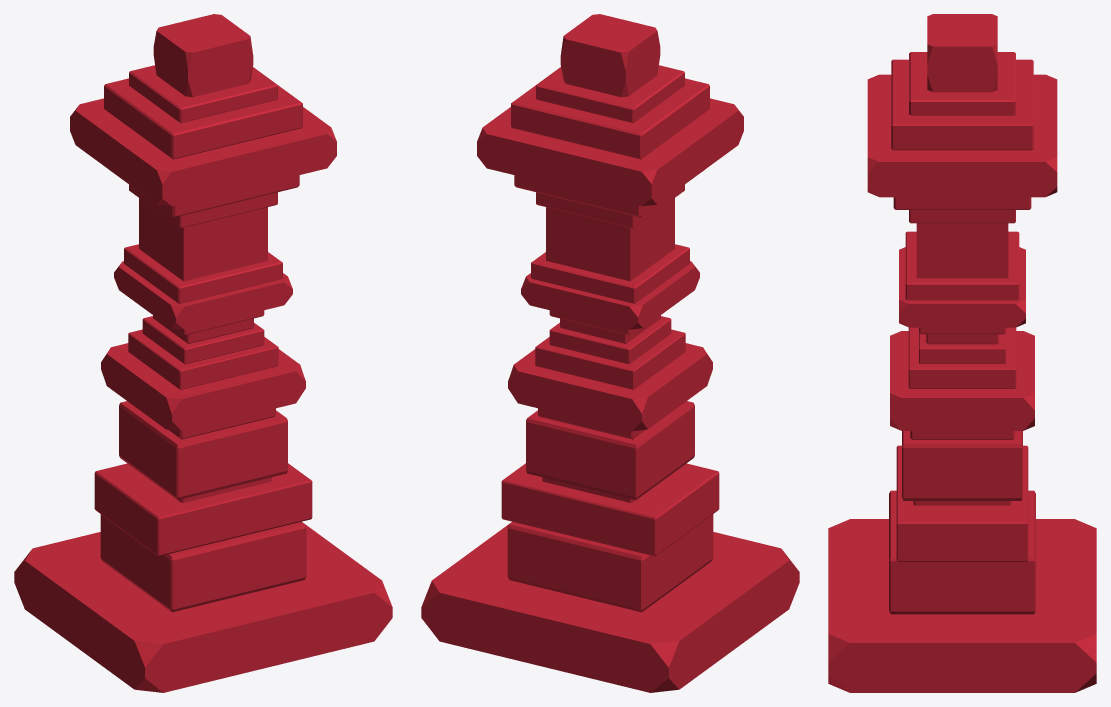
Rendered from KINETIKA_EMPILEMENT_DESTRUCTIBLE_3.FBX.
The picture shows the model from 3 angles, left to right: view 1: azimuth 30°, elevation 25°; view 2: azimuth 150°, elevation 25°; view 3: azimuth 270°, elevation 25°; orthographic projection. The views are drawn at different scales.
Visible parts, largest first — view 1: Empilement3, Box037, Box039, Box041, Box044, Box046, Box040, Box049, Box042, Box047, Box051, Box038 (+6 smaller); view 2: Empilement3, Box037, Box039, Box041, Box044, Box046, Box040, Box049, Box042, Box047, Box051, Box038 (+6 smaller); view 3: Empilement3, Box037, Box041, Box039, Box046, Box044, Box040, Box042, Box049, Box047, Box038, Box048 (+8 smaller).
Part boxes in pixels (x1=…): Empilement3: x1=14, y1=522, x2=392, y2=692; Box037: x1=70, y1=98, x2=336, y2=206; Box039: x1=94, y1=463, x2=312, y2=556; Box041: x1=100, y1=514, x2=306, y2=612; Box044: x1=119, y1=401, x2=287, y2=499; Box046: x1=101, y1=343, x2=305, y2=431; Box040: x1=104, y1=67, x2=302, y2=159; Box049: x1=139, y1=198, x2=267, y2=281; Box042: x1=153, y1=14, x2=253, y2=97; Box047: x1=114, y1=261, x2=292, y2=329; Box051: x1=128, y1=329, x2=278, y2=389; Box038: x1=129, y1=65, x2=277, y2=123; Empilement3: x1=421, y1=522, x2=799, y2=692; Box037: x1=477, y1=98, x2=743, y2=206; Box039: x1=501, y1=463, x2=719, y2=556; Box041: x1=507, y1=514, x2=713, y2=612; Box044: x1=526, y1=401, x2=694, y2=499; Box046: x1=508, y1=343, x2=712, y2=431; Box040: x1=511, y1=67, x2=709, y2=159; Box049: x1=546, y1=198, x2=674, y2=281; Box042: x1=560, y1=14, x2=660, y2=97; Box047: x1=521, y1=261, x2=699, y2=329; Box051: x1=535, y1=329, x2=685, y2=389; Box038: x1=536, y1=65, x2=684, y2=123; Empilement3: x1=828, y1=519, x2=1096, y2=692; Box037: x1=867, y1=74, x2=1057, y2=197; Box041: x1=889, y1=490, x2=1035, y2=614; Box039: x1=896, y1=445, x2=1028, y2=561; Box046: x1=890, y1=331, x2=1034, y2=430; Box044: x1=902, y1=431, x2=1022, y2=500; Box040: x1=891, y1=59, x2=1033, y2=150; Box042: x1=927, y1=14, x2=997, y2=92; Box049: x1=916, y1=223, x2=1008, y2=278; Box047: x1=899, y1=247, x2=1025, y2=327; Box038: x1=909, y1=52, x2=1015, y2=115; Box048: x1=905, y1=231, x2=1019, y2=300.
Size of the model in its own units: 12.63 by 28.56 by 11.56.
